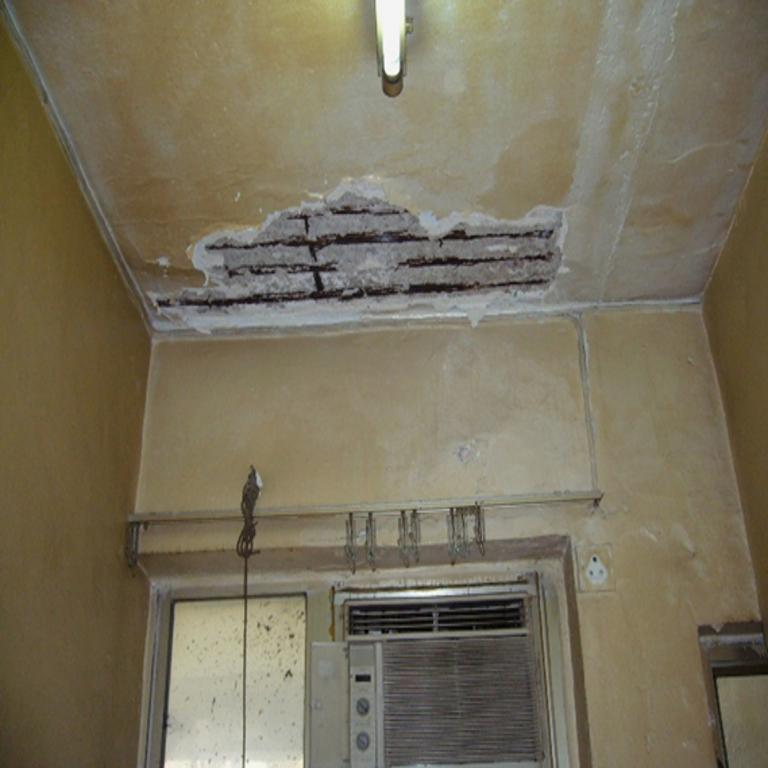spalling: (158, 186, 562, 310)
